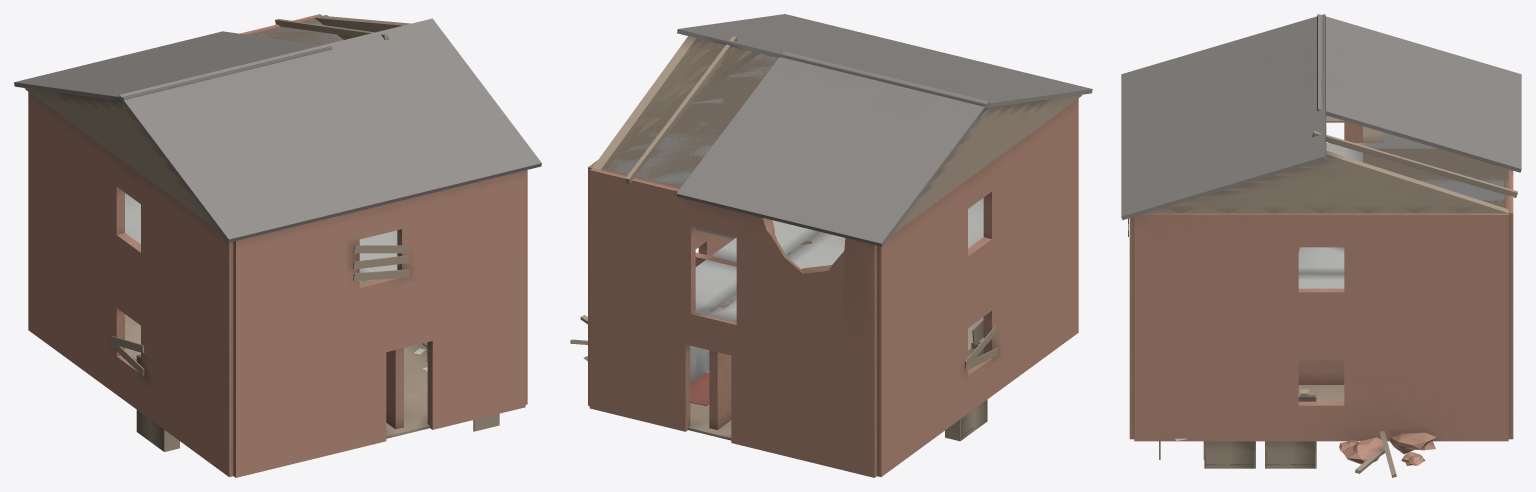
Rendered from casa_r3.glb.
3 views of the same model, side by side, from view 1: azimuth 30°, elevation 25°; view 2: azimuth 150°, elevation 25°; view 3: azimuth 270°, elevation 25° (orthographic). The views are drawn at different scales.
Parts seen in each view (by area): view 1: telhado, ext0_0, ext1_0, ext0_3, ext1_3, telhado_oitao0, chao, laje1, ext1_0_tabua_37, int_0, estante_sala1, telhado_oitao2 (+4 smaller); view 2: telhado, ext0_2, ext1_2, ext0_3, ext1_3, forro, telhado_oitao2, telhado_oitao0, laje1, laje2, int_0, telhado_vigas (+6 smaller); view 3: telhado, ext1_1, ext0_1, telhado_oitao2, forro, entulho_fora, laje2, laje1, estante_frente2, telhado_vigas, estante_frente1, int_0 (+5 smaller).
Boxes of the visible parts, x1,y1,x2,y2 form: telhado: (14, 18, 541, 242); ext0_0: (233, 286, 525, 477); ext1_0: (233, 170, 525, 356); ext0_3: (28, 209, 233, 477); ext1_3: (28, 92, 233, 355); telhado_oitao0: (24, 88, 219, 231); chao: (125, 314, 429, 438); laje1: (125, 193, 397, 282); ext1_0_tabua_37: (353, 245, 409, 281); int_0: (386, 348, 403, 429); estante_sala1: (136, 354, 179, 451); telhado_oitao2: (314, 15, 410, 39); telhado: (676, 14, 1092, 246); ext0_2: (589, 289, 876, 477); ext1_2: (589, 168, 876, 358); ext0_3: (877, 214, 1078, 476); ext1_3: (877, 98, 1078, 357); forro: (603, 53, 778, 187); telhado_oitao2: (592, 36, 759, 169); telhado_oitao0: (891, 95, 1082, 235); laje1: (693, 198, 983, 321); laje2: (605, 54, 778, 186); int_0: (709, 241, 811, 429); telhado_vigas: (625, 36, 737, 183); telhado: (1121, 14, 1521, 220); ext1_1: (1134, 213, 1508, 328); ext0_1: (1134, 328, 1508, 441); telhado_oitao2: (1147, 150, 1508, 213); forro: (1326, 115, 1508, 207); entulho_fora: (1339, 430, 1435, 477); laje2: (1326, 134, 1508, 206); laje1: (1298, 247, 1344, 288); estante_frente2: (1265, 389, 1316, 468); telhado_vigas: (1312, 131, 1517, 197); estante_frente1: (1204, 441, 1255, 468); int_0: (1298, 360, 1344, 384).
Size of what is drawn, in the model's own units: 10.17 by 8.56 by 9.63.
